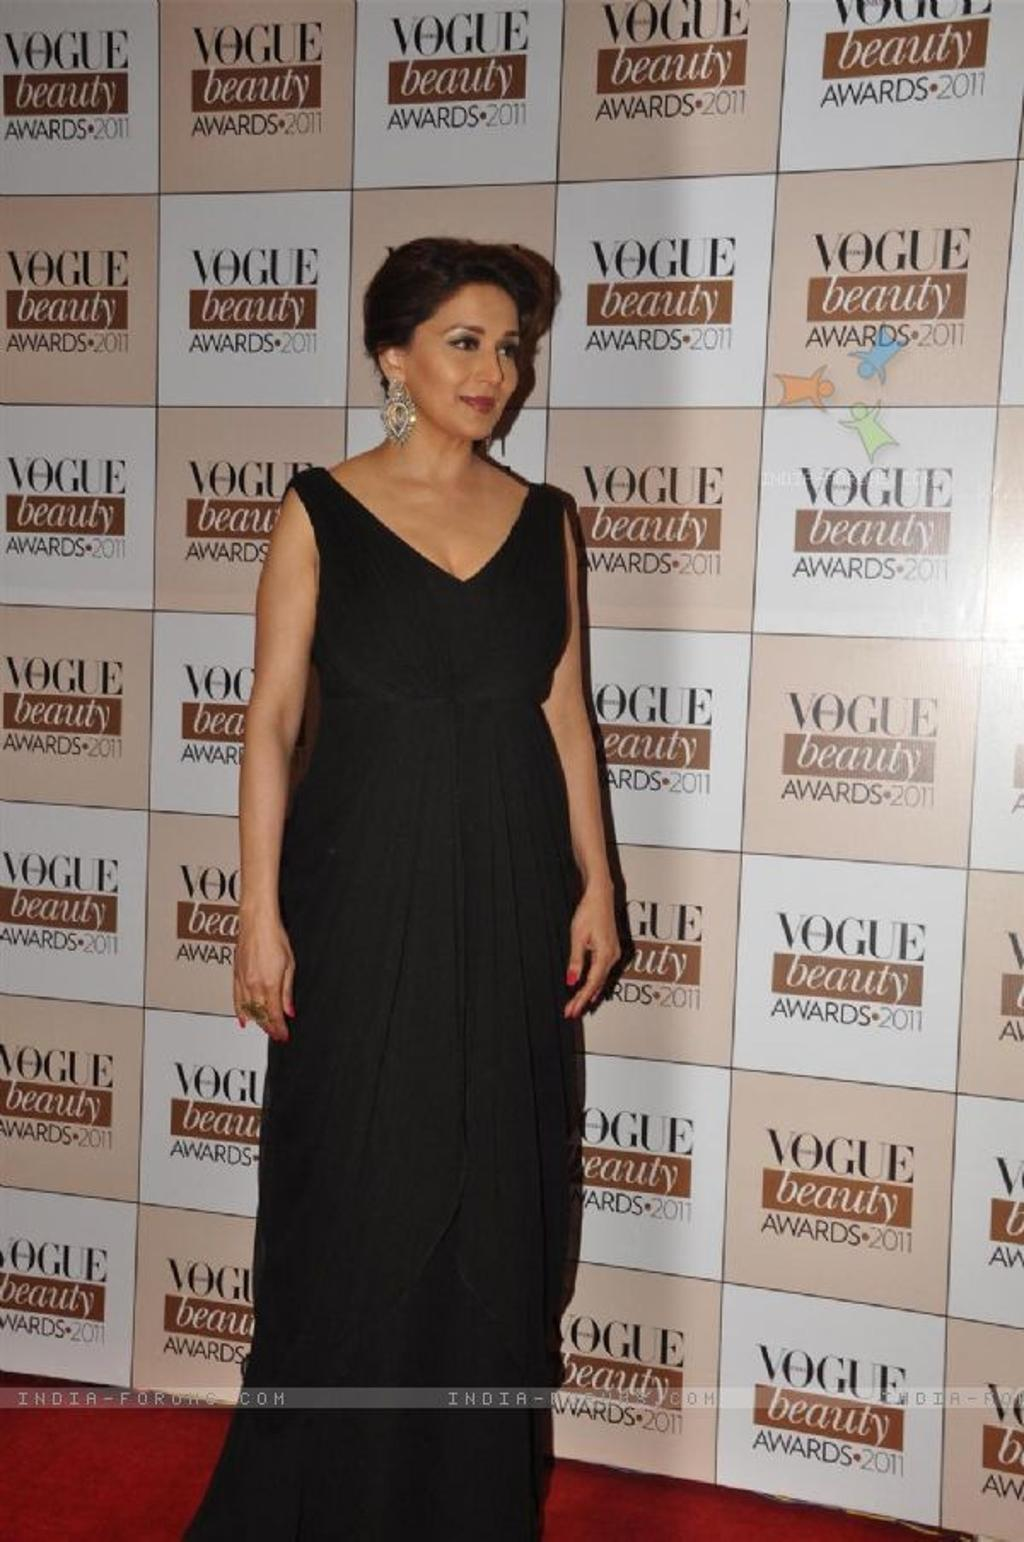face: (413, 280, 524, 443)
